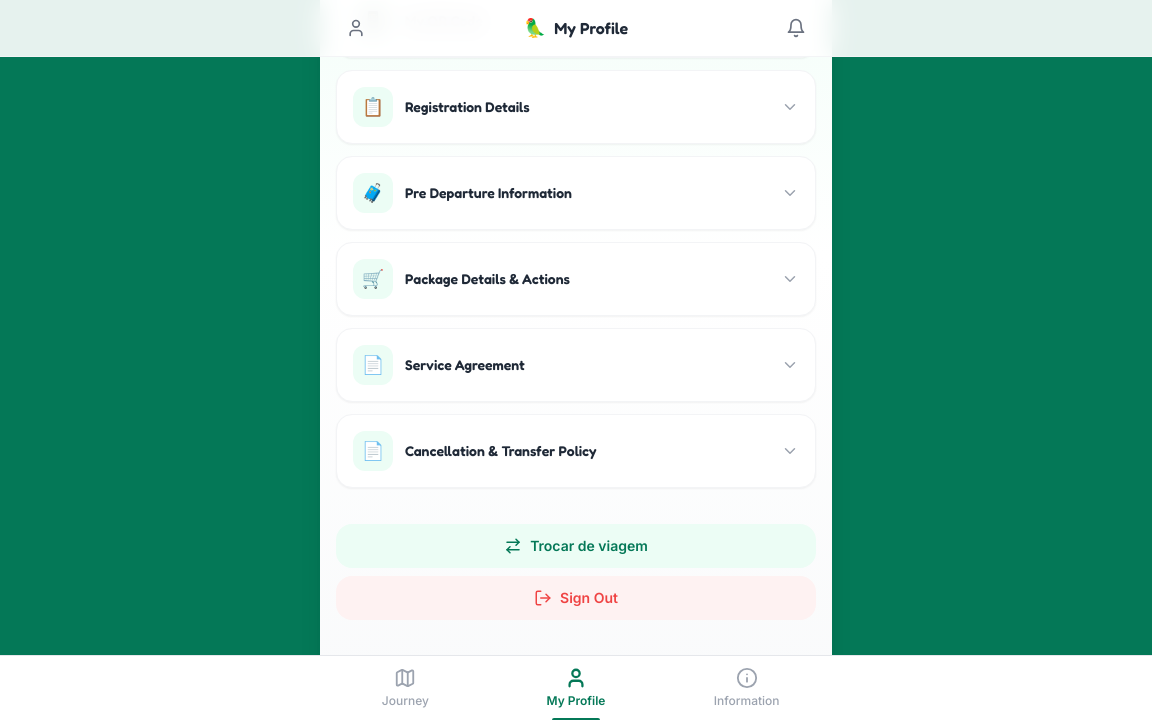
Scenario: App composition › makes the app underneath non-interactive while the trip switcher overlay is open
(page scrolled)
What coordinates should you click on to do the following:
click the button "Trocar de viagem"
I would click on:
 (576, 546)
Its box is [336, 524, 816, 568].
(page scrolled)
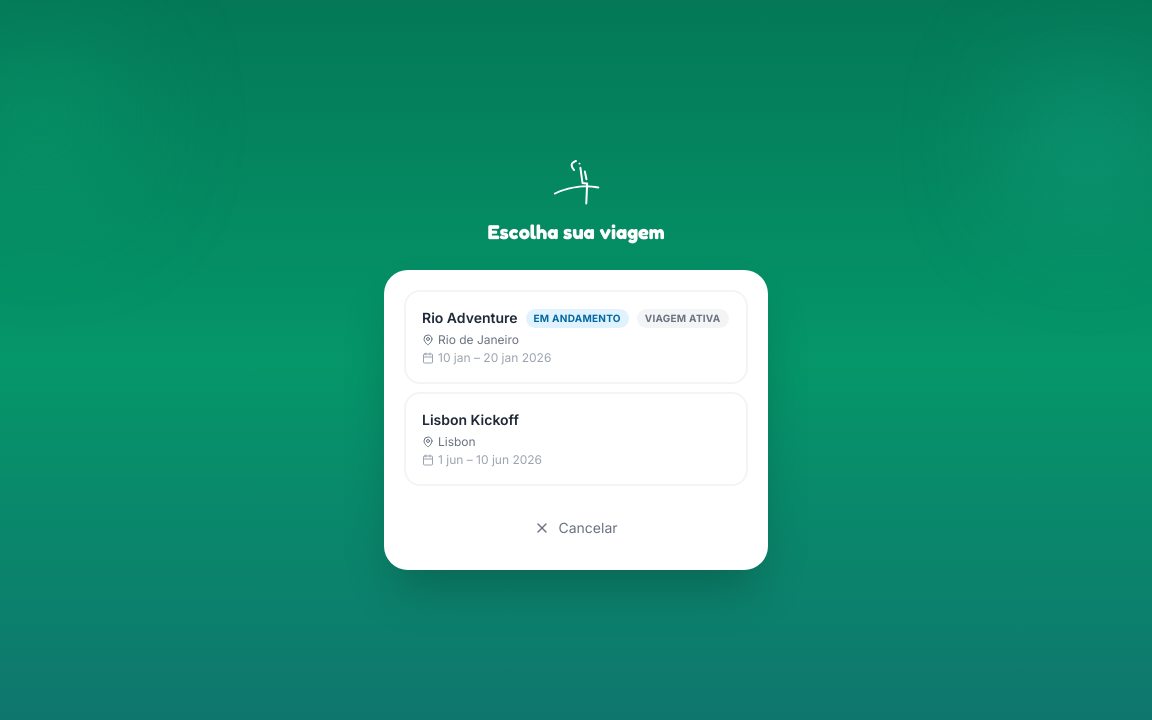
Expected: the heading "Escolha sua viagem" is shown, [487, 218, 665, 246]
